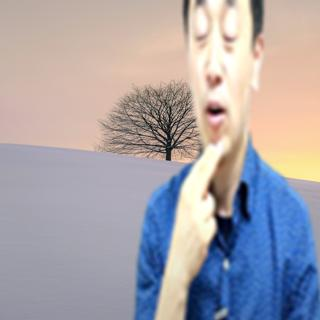DHAVE: (161, 138, 236, 280)
